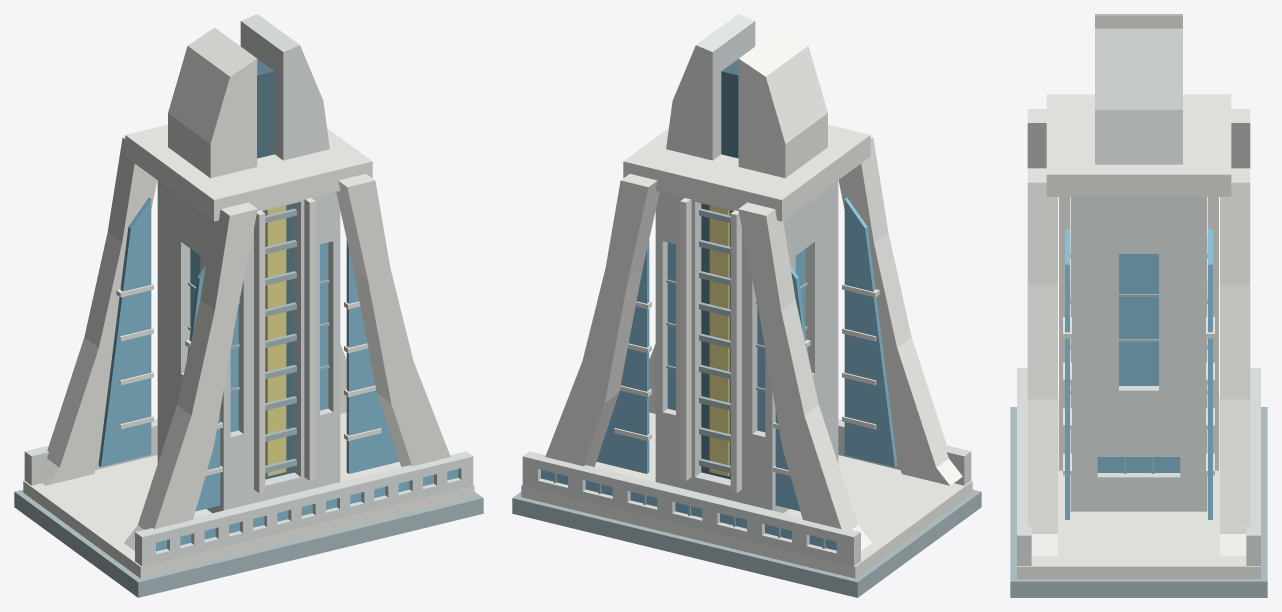
File: 03_buttressed_reactor.glb
The picture shows the model from 3 angles, left to right: view 1: azimuth 30°, elevation 25°; view 2: azimuth 150°, elevation 25°; view 3: azimuth 270°, elevation 25°; orthographic projection. The views are drawn at different scales.
Visible parts, largest first — view 1: curved_buttress (×3), central_core, blue_infill (×3), plinth, split_crown_left, base_window_fascia, upper_collar, foundation, shaft_rail (×2), split_crown_right, window_reveal_geometry (×4), inset_yellow_shaft (+4 smaller); view 2: curved_buttress (×3), central_core, blue_infill (×3), plinth, split_crown_left, upper_collar, rear_base_window_fascia, foundation, shaft_rail (×2), split_crown_right, window_reveal_geometry (×4), inset_yellow_shaft (+4 smaller); view 3: central_core, curved_buttress (×4), plinth, upper_collar, split_crown_right, foundation, inset_glass (×2), shaft_rail (×2), blue_infill (×2), rear_base_window_fascia, base_window_fascia, split_crown_left (+1 smaller).
Boxes of the visible parts, box(x1,y1,x2,y2) form: curved_buttress (×3): box(33, 137, 450, 550); central_core: box(157, 180, 340, 513); blue_infill (×3): box(98, 197, 399, 511); plinth: box(23, 412, 474, 578); split_crown_left: box(168, 27, 257, 178); base_window_fascia: box(135, 451, 473, 566); upper_collar: box(125, 124, 372, 221); foundation: box(14, 489, 483, 597); shaft_rail (×2): box(254, 198, 315, 493); split_crown_right: box(240, 14, 329, 160); window_reveal_geometry (×4): box(181, 202, 333, 476); inset_yellow_shaft: box(266, 205, 286, 476); curved_buttress (×3): box(545, 137, 962, 550); central_core: box(655, 180, 838, 513); blue_infill (×3): box(596, 197, 897, 511); plinth: box(521, 412, 972, 578); split_crown_left: box(738, 27, 827, 178); upper_collar: box(623, 124, 870, 221); rear_base_window_fascia: box(522, 451, 860, 566); foundation: box(512, 489, 981, 597); shaft_rail (×2): box(680, 198, 741, 493); split_crown_right: box(666, 14, 755, 160); window_reveal_geometry (×4): box(662, 202, 814, 476); inset_yellow_shaft: box(709, 205, 729, 476); central_core: box(1070, 197, 1207, 511); curved_buttress (×4): box(1027, 109, 1250, 556); plinth: box(1017, 397, 1260, 578); upper_collar: box(1046, 94, 1231, 196); split_crown_right: box(1095, 28, 1182, 164); foundation: box(1010, 407, 1267, 597); inset_glass (×2): box(1097, 254, 1180, 472); shaft_rail (×2): box(1059, 197, 1218, 470); blue_infill (×2): box(1065, 229, 1212, 519); rear_base_window_fascia: box(1246, 368, 1260, 565); base_window_fascia: box(1017, 368, 1031, 565); split_crown_left: box(1095, 14, 1182, 28).
Bounding box in the file's own units: 3.7 × 4.85 × 2.3.
